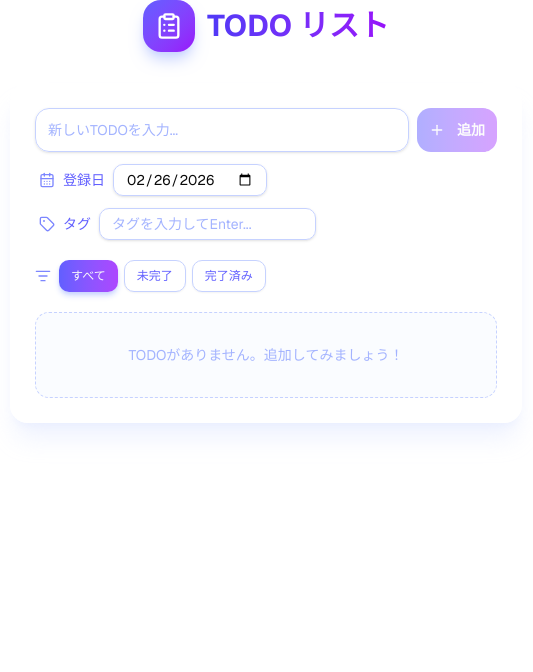
Test: TodoList › TODOを追加できる
Type "テストタスク" into the field with placeholder "新しいTODOを入力...".
click(222, 130); type("テストタスク")  # box [35,108,409,152]
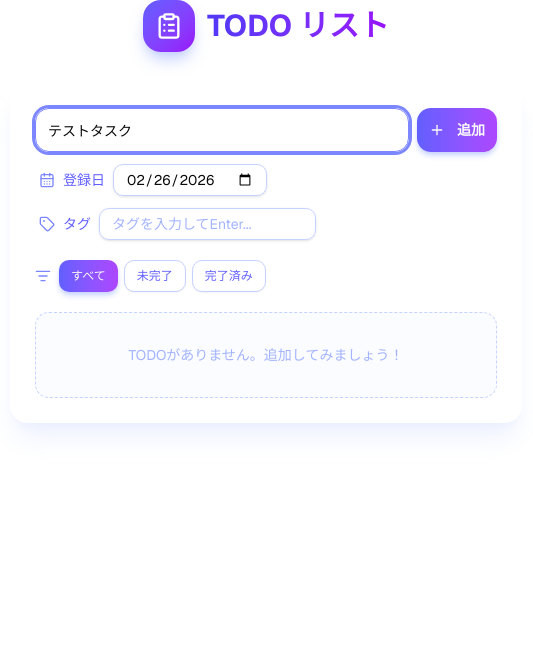
Click the button "追加".
click(457, 130)  # box [417,108,497,152]
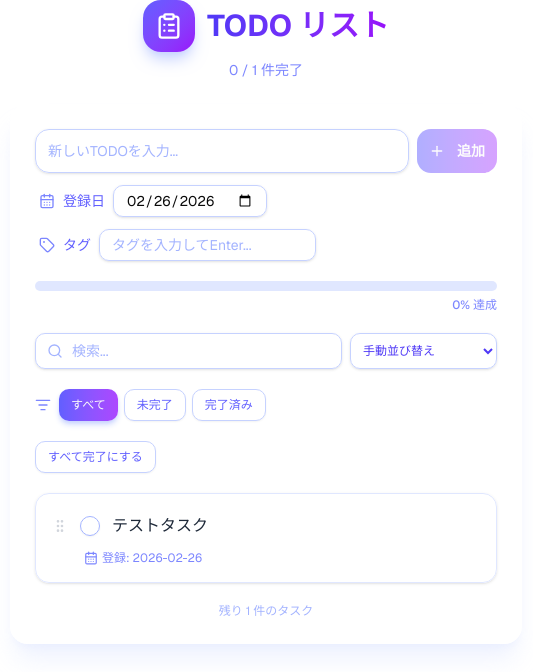
expect the button "テストタスク" is shown: met, box [112,515,208,536]
